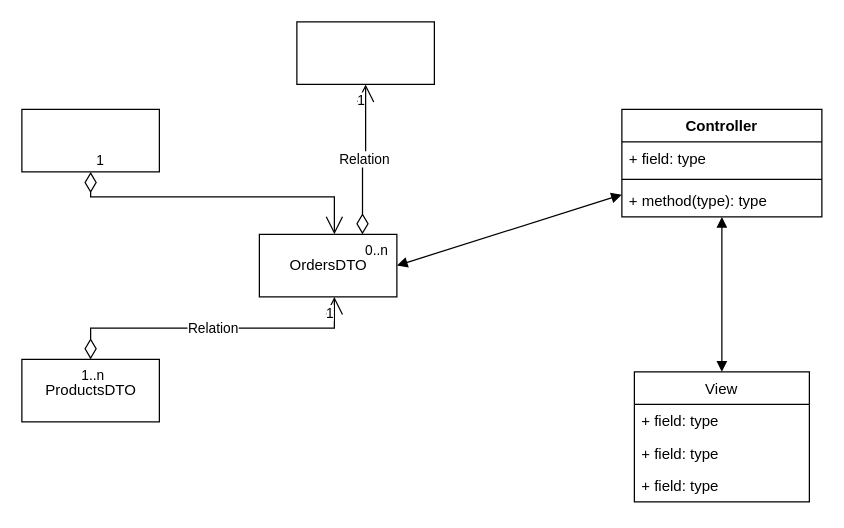
Image size: 844x528. Some labels were removed from this diagram. The centre of each missing label's shape, as x and y in pixels:
"backup" goes at pixel 365 52.
"TaxesDTO" goes at pixel 90 140.
